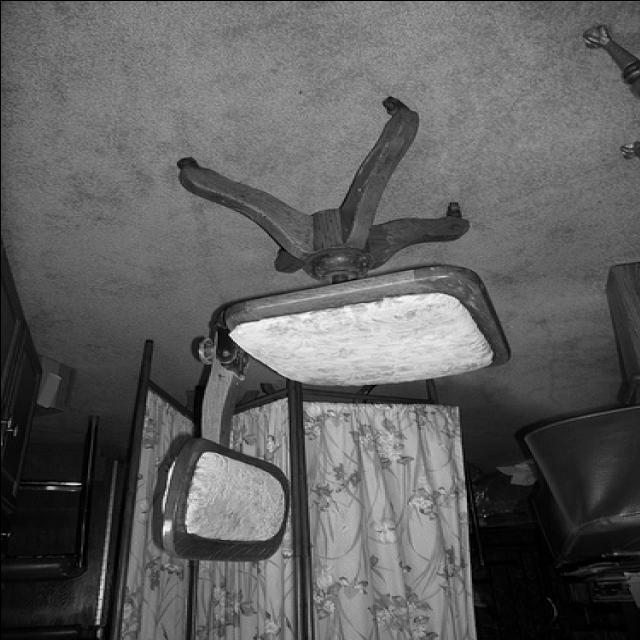chair: (152, 96, 512, 564)
